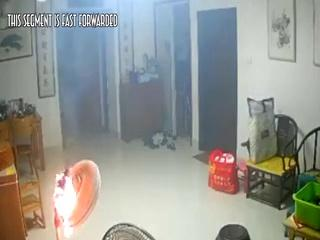Fire: (49, 132, 101, 239)
